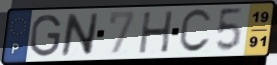5: (214, 6, 248, 55)
7: (107, 9, 138, 57)
C: (177, 8, 214, 55)
G: (29, 13, 63, 58)
H: (138, 10, 176, 56)
N: (59, 12, 101, 58)
